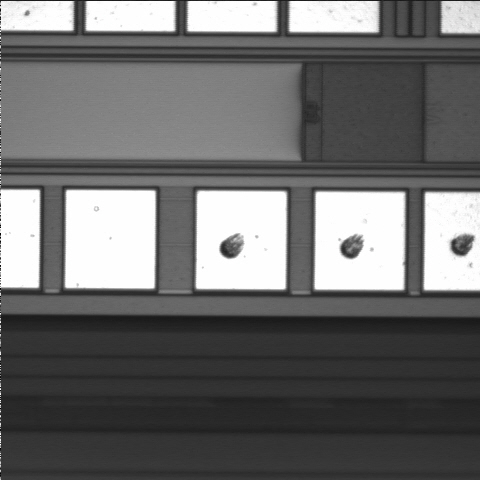pad: (65, 190, 155, 289), (196, 191, 286, 289), (315, 192, 405, 290)
